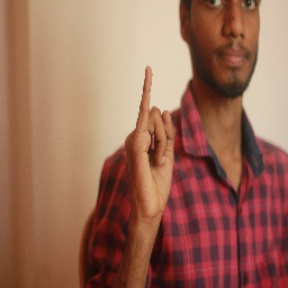I: (126, 63, 185, 208)
